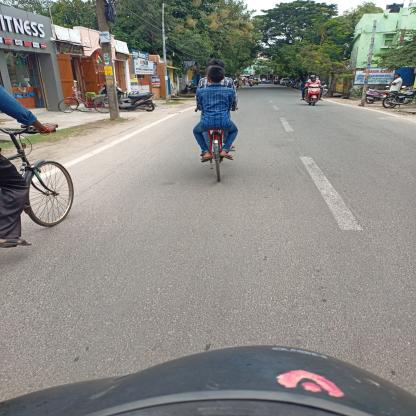bike: (0, 107, 80, 250), (188, 111, 259, 194)
